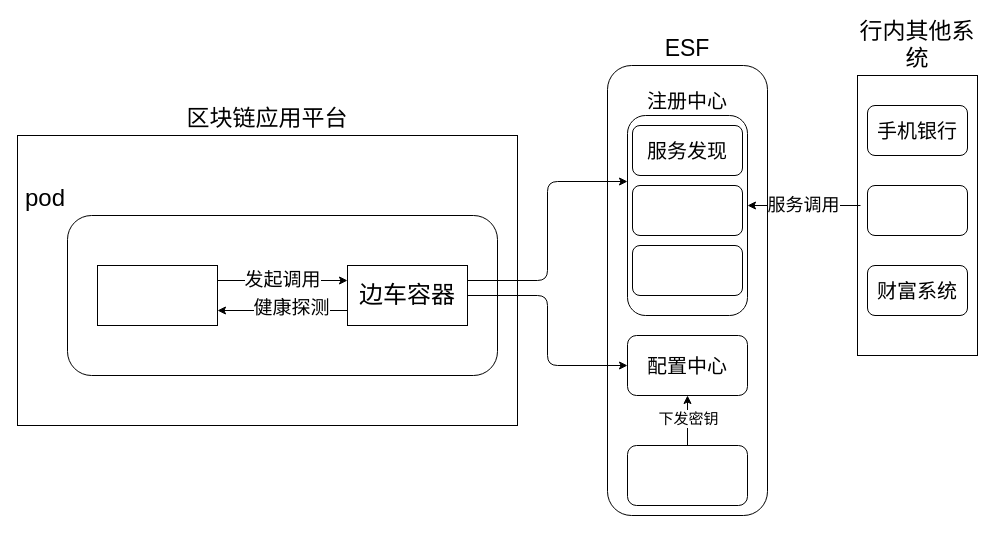
Image size: 995x533. Some labels were removed from this diagram. Here are the shapes that lost their labels. From the top down, the centre of each, then its label:
the point at 687,210: 服务注册
the point at 917,210: 网银系统
the point at 687,270: 服务续约
the point at 157,295: 可信存证容器
the point at 687,475: 安全中心
